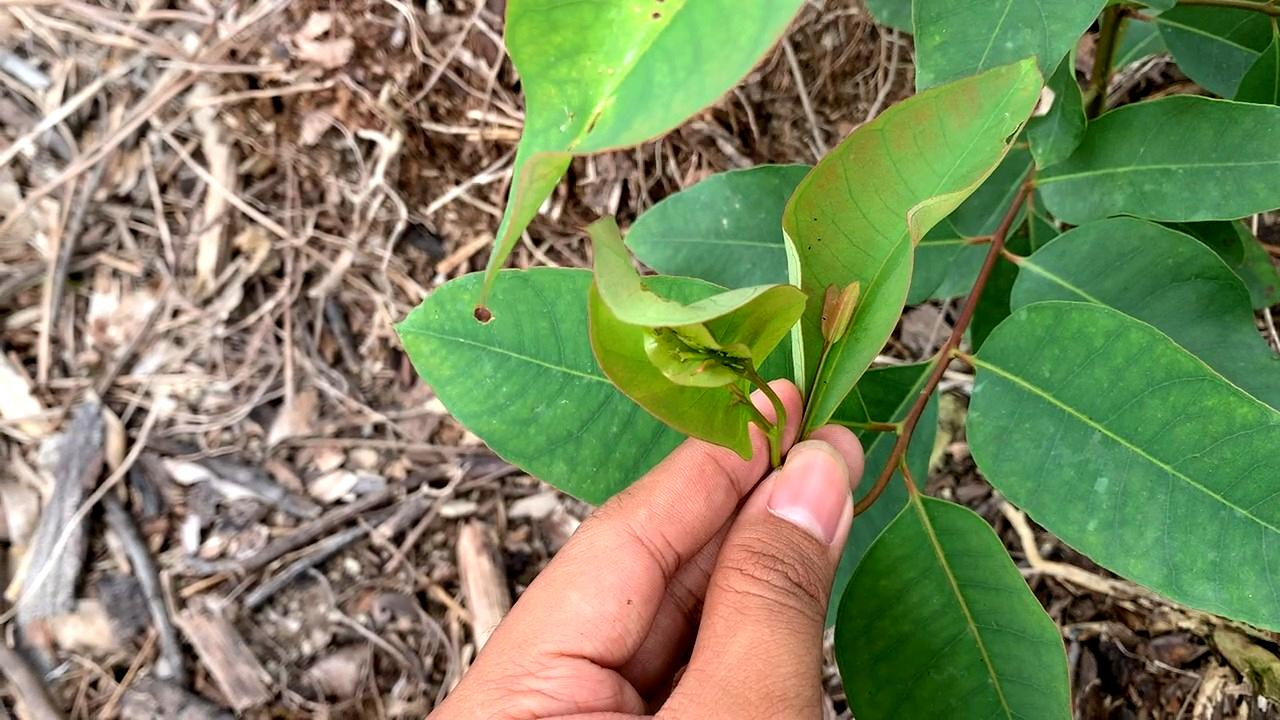Leaf Roller - Leaf: (583, 220, 799, 463)
